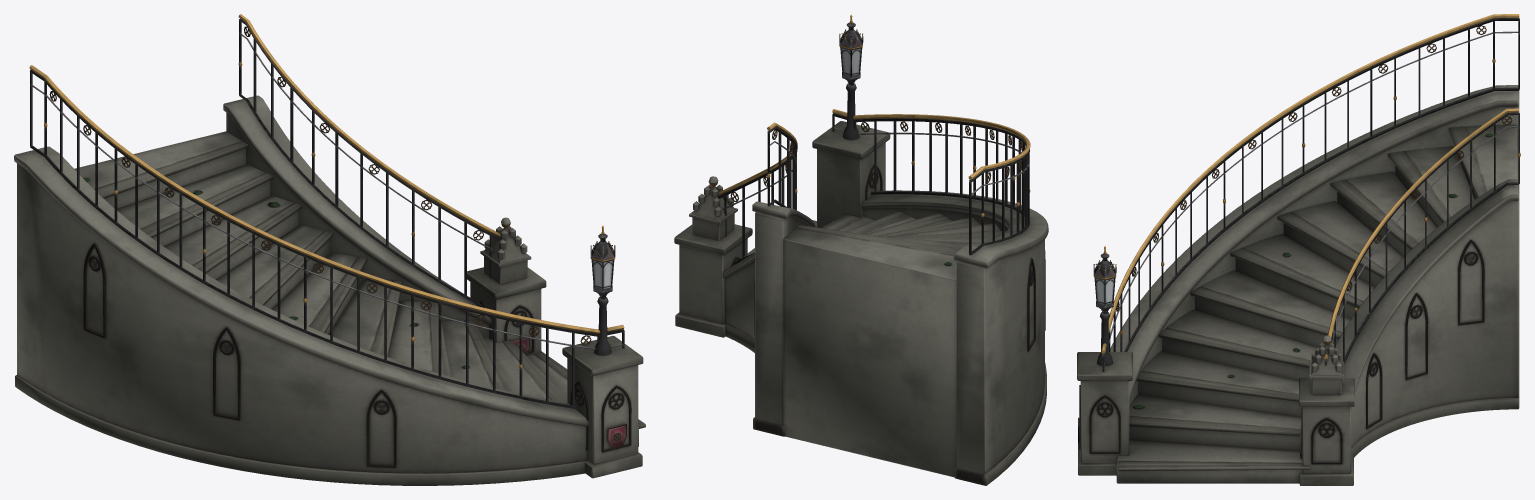
Rendered from EntranceSweepR.fbx.
3 renders of one model, left to right at view 1: azimuth 30°, elevation 25°; view 2: azimuth 150°, elevation 25°; view 3: azimuth 270°, elevation 25°, orthographic. The views are drawn at different scales.
Visible parts, largest first — view 1: EntranceSweepR_Cheeks, EntranceSweepR_Main, EntranceSweepR_Rail, EntranceSweepR_Newels; view 2: EntranceSweepR_Main, EntranceSweepR_Cheeks, EntranceSweepR_Newels, EntranceSweepR_Rail, EntranceSweepR_Glass; view 3: EntranceSweepR_Main, EntranceSweepR_Cheeks, EntranceSweepR_Rail, EntranceSweepR_Newels.
Boxes of the visible parts, x1,y1,x2,y2 form: EntranceSweepR_Cheeks: [14, 95, 588, 485]; EntranceSweepR_Main: [74, 131, 645, 446]; EntranceSweepR_Rail: [29, 14, 624, 409]; EntranceSweepR_Newels: [467, 217, 643, 478]; EntranceSweepR_Main: [747, 211, 1006, 477]; EntranceSweepR_Cheeks: [722, 190, 1048, 485]; EntranceSweepR_Newels: [674, 14, 890, 337]; EntranceSweepR_Rail: [704, 109, 1030, 264]; EntranceSweepR_Glass: [842, 48, 860, 75]; EntranceSweepR_Main: [1116, 125, 1517, 483]; EntranceSweepR_Cheeks: [1110, 85, 1519, 457]; EntranceSweepR_Rail: [1101, 14, 1520, 371]; EntranceSweepR_Newels: [1077, 246, 1354, 485].
Size of the model in its own units: 1273 by 930 by 1273.
